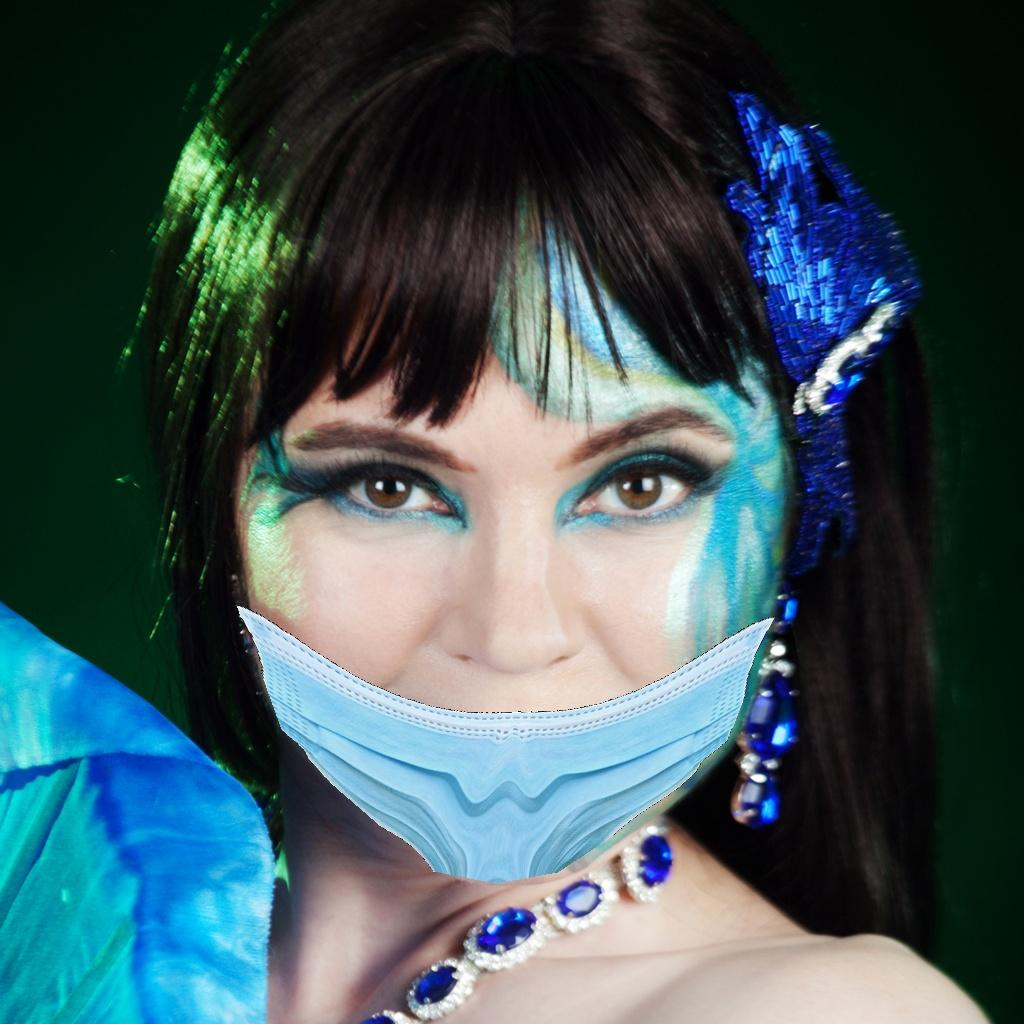Máscara Incorreta: (243, 292, 767, 866)
